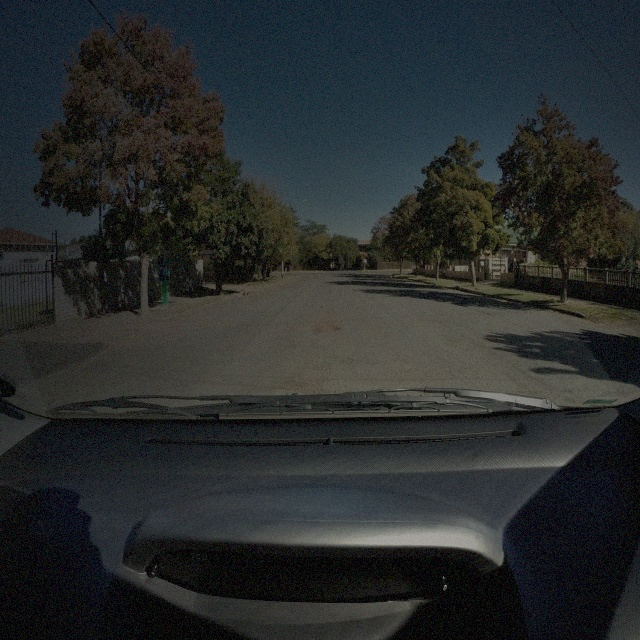pothole: (312, 320, 341, 335)
